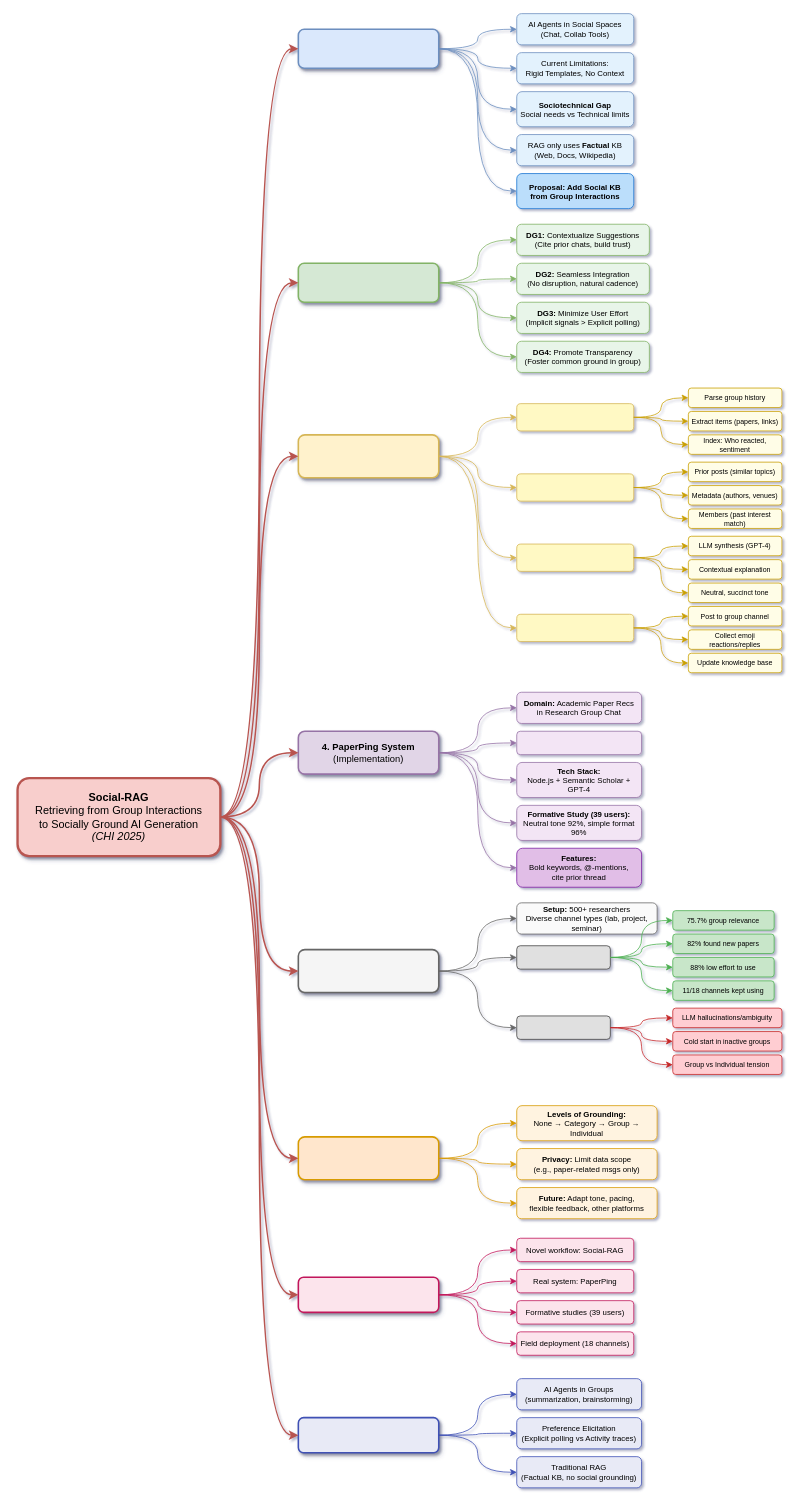
This 800x1506 diagram has some shape labels left out. Here are the shapes that lost their labels. From the top down, the centre of each, then its label:
At point 369,49: "1. Problem Context".
At point 369,283: "2. Design Goals".
At point 575,417: "Step 1: Collect & Index".
At point 369,457: "3. Social-RAG Workflow (4 Steps)".
At point 575,487: "Step 2: Retrieve Signals".
At point 575,557: "Step 3: Rank & Generate".
At point 575,627: "Step 4: Post & Learn".
At point 579,742: "Platform: Slack Bot".
At point 369,971: "5. Field Evaluation (3 Months, 18 Channels)".
At point 563,957: "Key Findings".
At point 563,1027: "Limitations".
At point 369,1159: "6. Discussion & Future Work".
At point 369,1295: "7. Contributions".
At point 369,1436: "8. Related Work".
